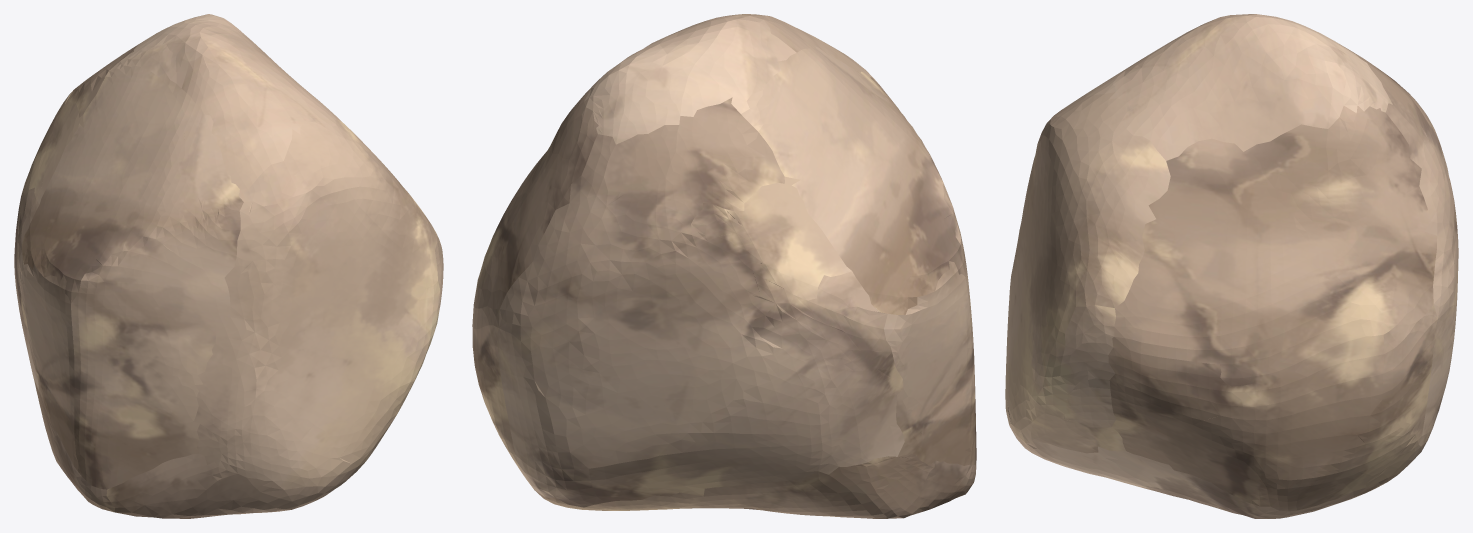
The model's file is Stone 2.fbx.
3 renders of one model, left to right at view 1: azimuth 30°, elevation 25°; view 2: azimuth 150°, elevation 25°; view 3: azimuth 270°, elevation 25°, orthographic. The views are drawn at different scales.
Visible parts, largest first — view 1: Stone 2_Baked; view 2: Stone 2_Baked; view 3: Stone 2_Baked.
Boxes of the visible parts, x1,y1,x2,y2 form: Stone 2_Baked: [14, 14, 443, 518]; Stone 2_Baked: [472, 14, 976, 518]; Stone 2_Baked: [1005, 14, 1458, 518].
Bounding box in the file's own units: 25.14 × 26.88 × 25.23.
Materials: 1 (1 with a texture image).
